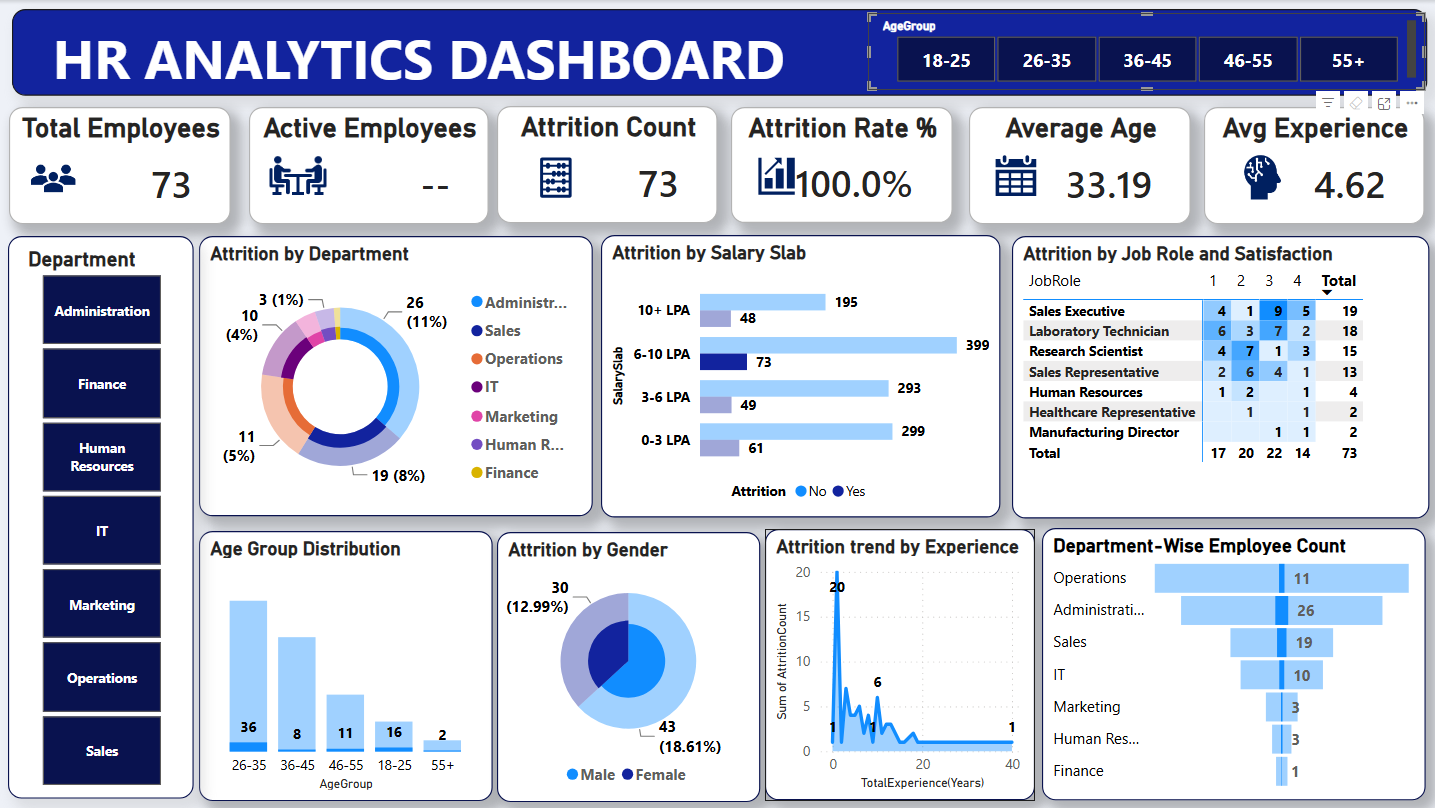

The dashboard page shown, as its layout file describes it:
{"tool":"powerbi","page":{"name":"HR DASHBOARD","canvas":[1280,720],"ordinal":0},"visuals":[{"type":"textbox","box":[12,7.9,1257.9,77.2],"z":0},{"type":"cardVisual","title":"Total Employees","fields":{"Data":["CountNonNull(HR_Analytics-4.EmpID)"]},"box":[10,95,197,104],"z":2000},{"type":"cardVisual","title":"Active Employees","fields":{"Data":["CountNonNull(HR_Analytics-4.EmployeeCount)"]},"box":[222.7,95.3,213,104.1],"z":3000},{"type":"cardVisual","title":"Attrition Count","fields":{"Data":["Sum(HR_Analytics-4.AttritionCount)"]},"box":[443.5,94.3,196.5,104.1],"z":4000},{"type":"cardVisual","title":"Attrition Rate %","fields":{"Data":["HR_Analytics-4.Attrition Rate %"]},"box":[651.2,95,196.9,102.9],"z":5000},{"type":"cardVisual","title":"Average Age","fields":{"Data":["Avg(HR_Analytics-4.Age)"]},"box":[862.7,95.3,197.4,104.1],"z":6000},{"type":"cardVisual","title":"Avg Experience","fields":{"Data":["Avg(HR_Analytics-4.YearsatCompany)"]},"box":[1071.9,95.3,196.5,104.1],"z":7000},{"type":"image","box":[18.5,136.2,60.3,44.7],"z":8000},{"type":"image","box":[669.2,126.4,44.7,61.3],"z":9000},{"type":"image","box":[234.4,112.8,64.2,85.6],"z":10000},{"type":"image","box":[1087.4,134.2,73.9,46.7],"z":11000},{"type":"image","box":[457.1,137.1,78.8,41.8],"z":12000},{"type":"image","box":[861.8,130.3,87.5,50.6],"z":13000},{"type":"donutChart","title":"Attrition by Department","fields":{"Category":["HR_Analytics-4.Department"],"Y":["Sum(HR_Analytics-4.AttritionCount)"]},"box":[179,210,350,249],"z":14000},{"type":"clusteredBarChart","title":"Attrition by Salary Slab","fields":{"Category":["HR_Analytics-4.SalarySlab"],"Series":["HR_Analytics-4.Attrition"],"Y":["CountNonNull(HR_Analytics-4.EmpID)"]},"box":[536.4,208.8,355.3,251.4],"z":15000},{"type":"pivotTable","title":"Attrition by Job Role and Satisfaction","fields":{"Columns":["HR_Analytics-4.JobSatisfaction"],"Rows":["HR_Analytics-4.JobRole"],"Values":["Sum(HR_Analytics-4.AttritionCount)"]},"box":[901.6,210.1,371,251],"z":16000},{"type":"columnChart","title":"Age Group Distribution","fields":{"Category":["HR_Analytics-4.AgeGroup"],"Y":["Sum(HR_Analytics-4.EmployeeCount)"]},"box":[179.1,472.2,261.3,240.1],"z":17000},{"type":"pieChart","title":"Attrition by Gender","fields":{"Category":["HR_Analytics-4.Gender"],"Y":["Sum(HR_Analytics-4.AttritionCount)"]},"box":[443.4,473.1,233.6,239.5],"z":18000},{"type":"areaChart","title":"Attrition trend by Experience","fields":{"Category":["HR_Analytics-4.TotalExperience(Years)"],"Y":["Sum(HR_Analytics-4.AttritionCount)"]},"box":[681.9,470.1,239.5,241.5],"z":19000},{"type":"funnel","title":"Department-Wise Employee Count","fields":{"Category":["HR_Analytics-4.Department"],"Y":["CountNonNull(HR_Analytics-4.EmpID)"]},"box":[928,469,341,242],"z":20000},{"type":"slicer","fields":{"Values":["HR_Analytics-4.Department"]},"box":[9,209.6,165,500],"z":21000},{"type":"slicer","fields":{"Values":["HR_Analytics-4.AgeGroup"]},"box":[773.3,11.7,495.1,68.1],"z":22000}]}

Visuals, with their boxes in screenshot pixels (x1, y1, x2, y2), scaled from the page's 1280x720 canvas onto the 1435x808 screenshot:
textbox: box=[13, 9, 1424, 96]
"Total Employees" cardVisual: box=[11, 107, 232, 223]
"Active Employees" cardVisual: box=[250, 107, 488, 224]
"Attrition Count" cardVisual: box=[497, 106, 718, 223]
"Attrition Rate %" cardVisual: box=[730, 107, 951, 222]
"Average Age" cardVisual: box=[967, 107, 1188, 224]
"Avg Experience" cardVisual: box=[1202, 107, 1422, 224]
image: box=[21, 153, 88, 203]
image: box=[750, 142, 800, 211]
image: box=[263, 127, 335, 223]
image: box=[1219, 151, 1302, 203]
image: box=[512, 154, 601, 201]
image: box=[966, 146, 1064, 203]
"Attrition by Department" donutChart: box=[201, 236, 593, 515]
"Attrition by Salary Slab" clusteredBarChart: box=[601, 234, 1000, 516]
"Attrition by Job Role and Satisfaction" pivotTable: box=[1011, 236, 1427, 517]
"Age Group Distribution" columnChart: box=[201, 530, 494, 799]
"Attrition by Gender" pieChart: box=[497, 531, 759, 800]
"Attrition trend by Experience" areaChart: box=[764, 528, 1033, 799]
"Department-Wise Employee Count" funnel: box=[1040, 526, 1423, 798]
slicer - HR_Analytics-4.Department: box=[10, 235, 195, 796]
slicer - HR_Analytics-4.AgeGroup: box=[867, 13, 1422, 90]
